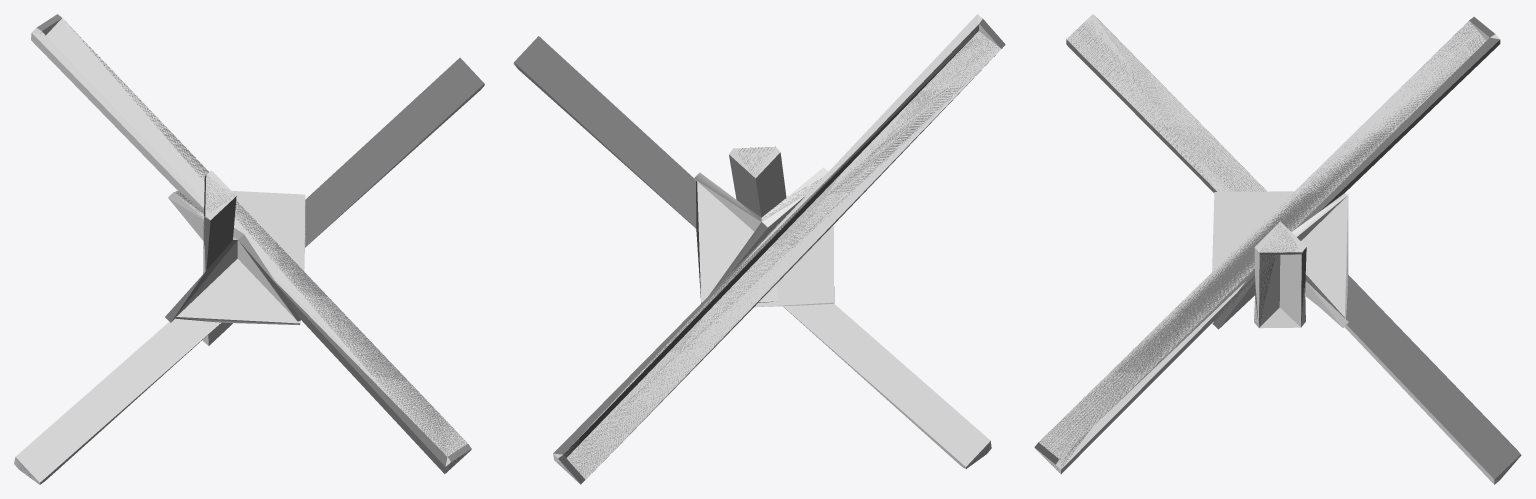
File: model_antitank_trap.fbx
The picture shows the model from 3 angles, left to right: view 1: azimuth 30°, elevation 25°; view 2: azimuth 150°, elevation 25°; view 3: azimuth 270°, elevation 25°; orthographic projection.
Visible parts, largest first — view 1: model_antitank_trap_col, model_antitank_trap; view 2: model_antitank_trap_col, model_antitank_trap; view 3: model_antitank_trap_col, model_antitank_trap.
Boxes of the visible parts, x1,y1,x2,y2 form: model_antitank_trap_col: (14, 18, 484, 484); model_antitank_trap: (16, 14, 484, 482); model_antitank_trap_col: (513, 14, 1005, 484); model_antitank_trap: (514, 18, 1005, 483); model_antitank_trap_col: (1035, 14, 1521, 484); model_antitank_trap: (1034, 17, 1520, 479).
Bounding box in the file's own units: 248 × 191 × 224.
2 materials, 1 textured.
